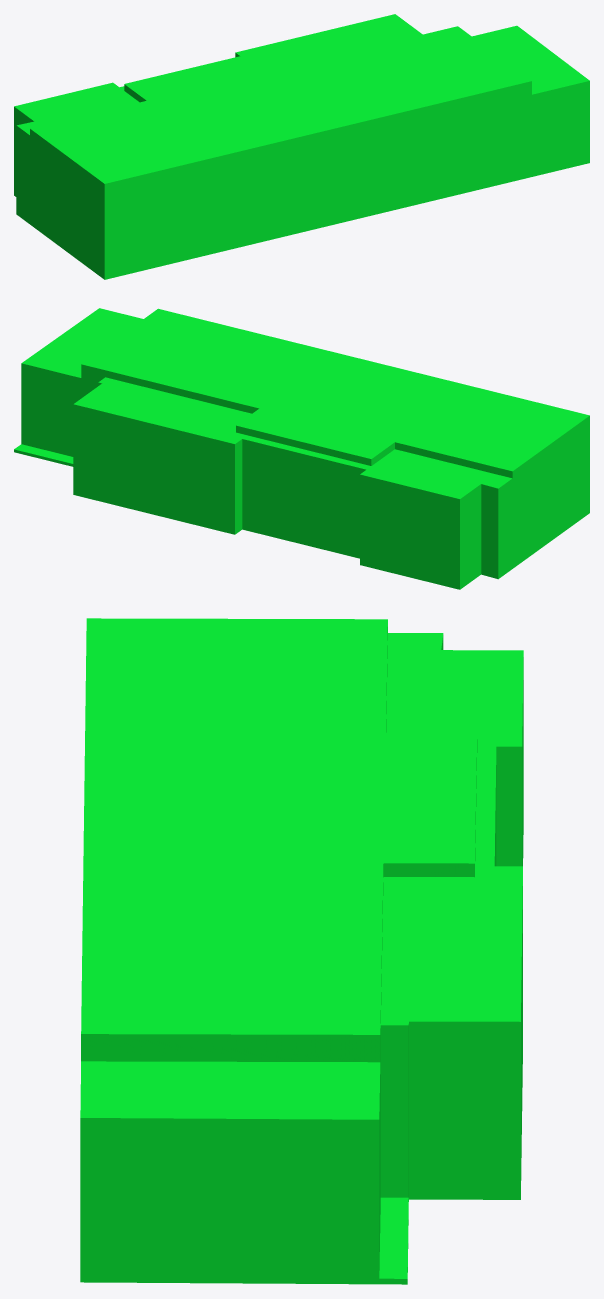
Rendered from DEHB01ALs0000fhI.dae.
3 renders of one model, top to bottom at view 1: azimuth 30°, elevation 25°; view 2: azimuth 150°, elevation 25°; view 3: azimuth 270°, elevation 25°, orthographic. The views are drawn at different scales.
Size of the model in its own units: 18.63 by 7.36 by 3.52.
